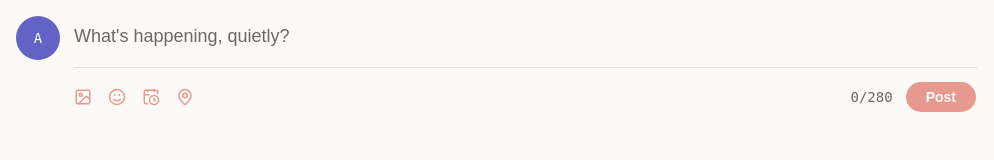
Test case: Composer › submitting › posts the trimmed text and clears the textarea on success
The width and height of the screenshot is (994, 160).
expect the picture named "@ada" is shown: met, box [16, 16, 60, 60]
Type "  Hello flock  " into the text box named "Compose a new post". click: point(526, 38)
box: [74, 16, 977, 59]
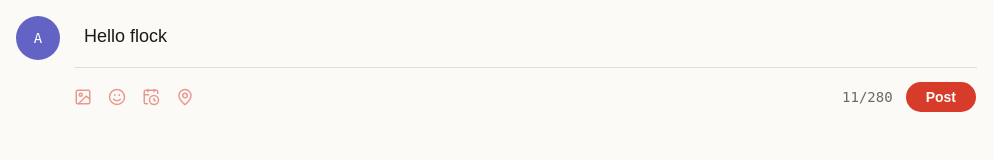
Click the button "Post". click: point(941, 97)
box: [905, 81, 977, 113]
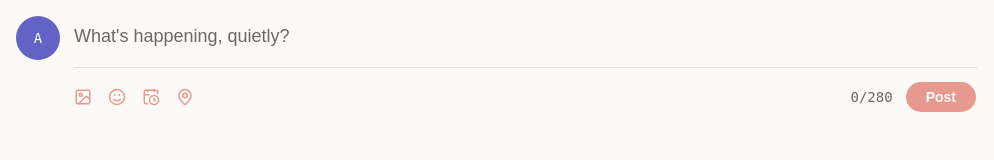
expect the text box named "Compose a new post" is empty: met, box [74, 16, 977, 59]
expect the text "0/280" is shown: met, box [850, 87, 893, 107]
expect the button "Post" is disabled: met, box [905, 81, 977, 113]
